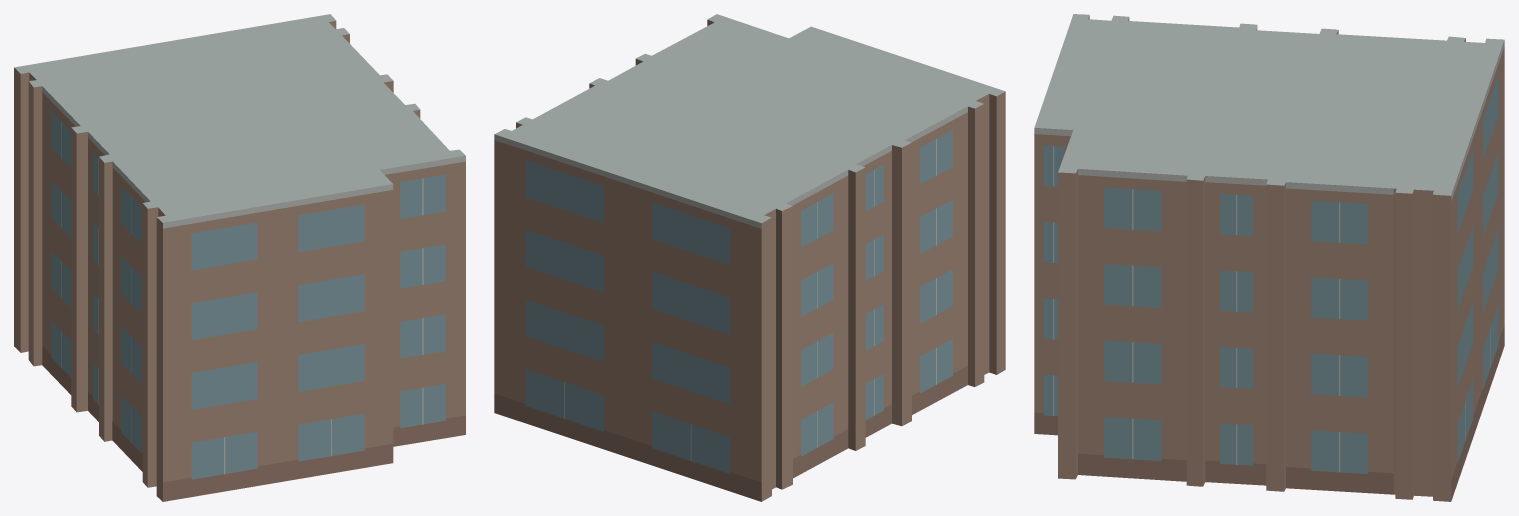
Rendered from survey-upis-32838344.glb.
3 views of the same model, side by side, from view 1: azimuth 30°, elevation 25°; view 2: azimuth 150°, elevation 25°; view 3: azimuth 270°, elevation 25° (orthographic). The views are drawn at different scales.
Parts seen in each view (by area): view 1: survey-upis-32838344.tmp; view 2: survey-upis-32838344.tmp; view 3: survey-upis-32838344.tmp.
Boxes of the visible parts, bbox=[...] form: survey-upis-32838344.tmp: bbox=[14, 14, 465, 501]; survey-upis-32838344.tmp: bbox=[494, 14, 1005, 501]; survey-upis-32838344.tmp: bbox=[1034, 14, 1504, 501].
Bounding box in the file's own units: 15.17 × 11.9 × 16.58.
